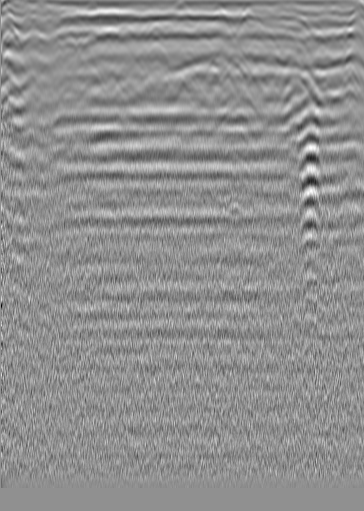가스: (222, 199, 250, 228)
상수: (276, 72, 312, 103)
오수: (14, 29, 43, 54)
우수: (167, 78, 196, 110)
